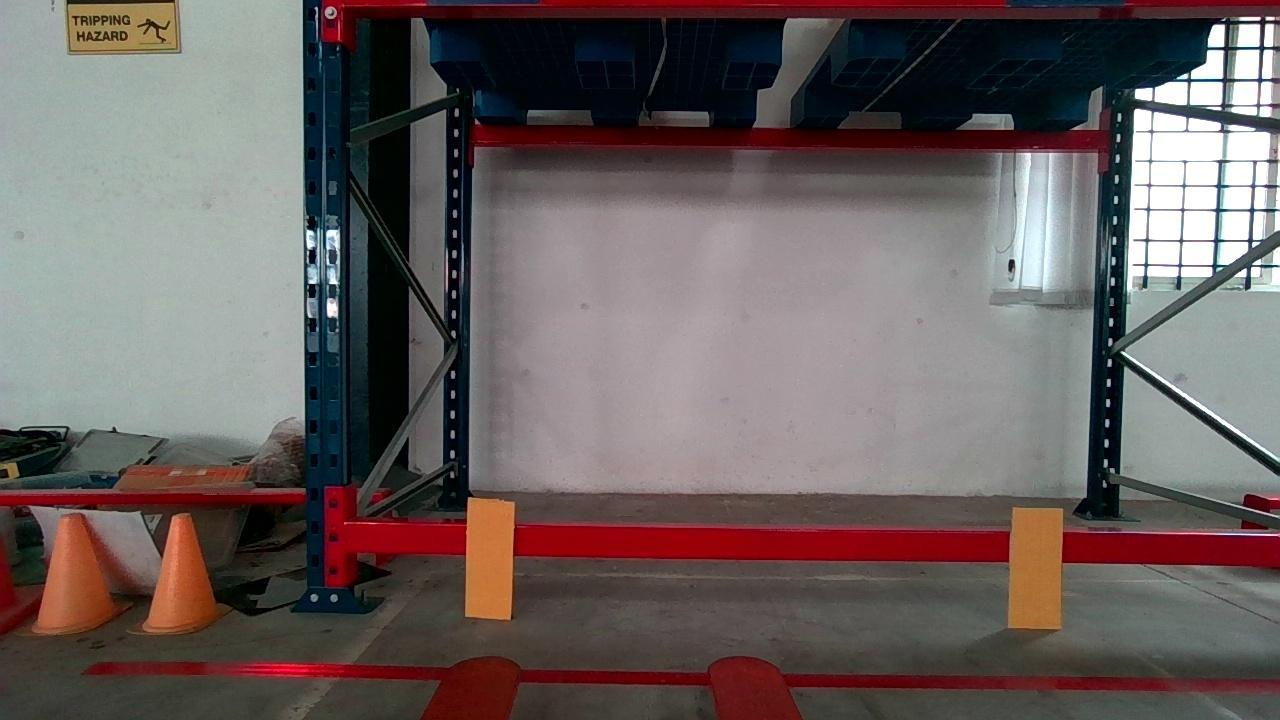h_rack: (340, 522, 1280, 569)
orange_strip: (1006, 506, 1060, 626), (467, 498, 519, 622)
